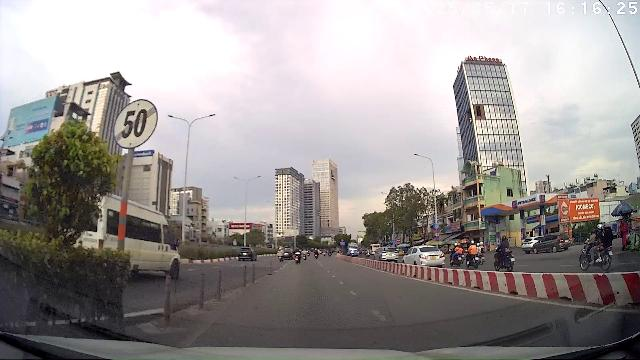134-het-han-che-toc-do-toi-da: (112, 97, 159, 149)
